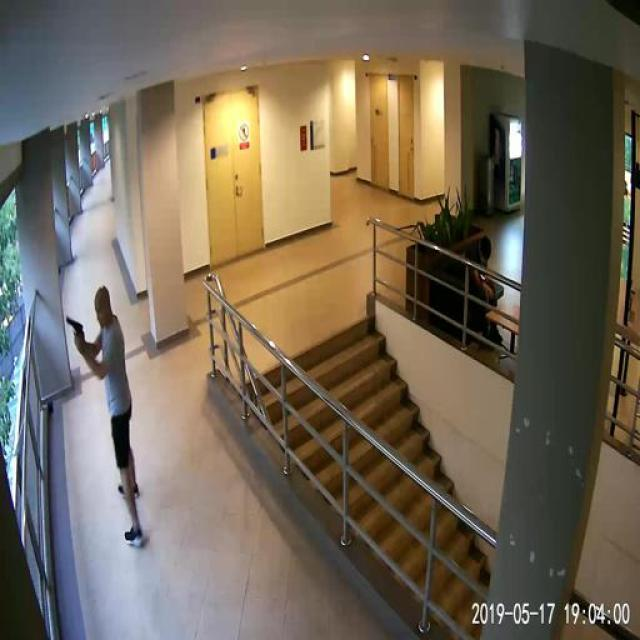Gun: (54, 311, 94, 347)
